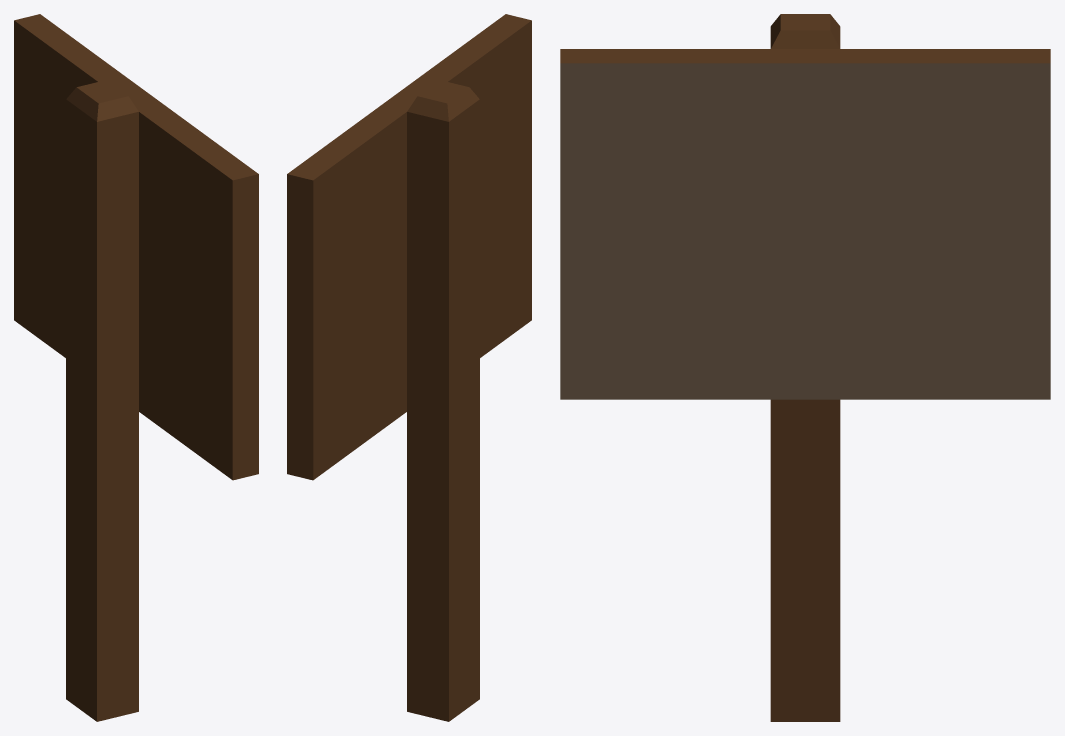
Rendered from sign.fbx.
3 views of the same model, side by side, from view 1: azimuth 30°, elevation 25°; view 2: azimuth 150°, elevation 25°; view 3: azimuth 270°, elevation 25° (orthographic). The views are drawn at different scales.
Visible parts, largest first — view 1: Cube.031; view 2: Cube.031; view 3: Cube.031.
Part boxes in pixels (box(x1,y1,x2,y2)): Cube.031: box(14, 14, 258, 721); Cube.031: box(287, 14, 531, 721); Cube.031: box(560, 14, 1050, 721).
Bounding box in the file's own units: 36.79 × 318 × 205.
